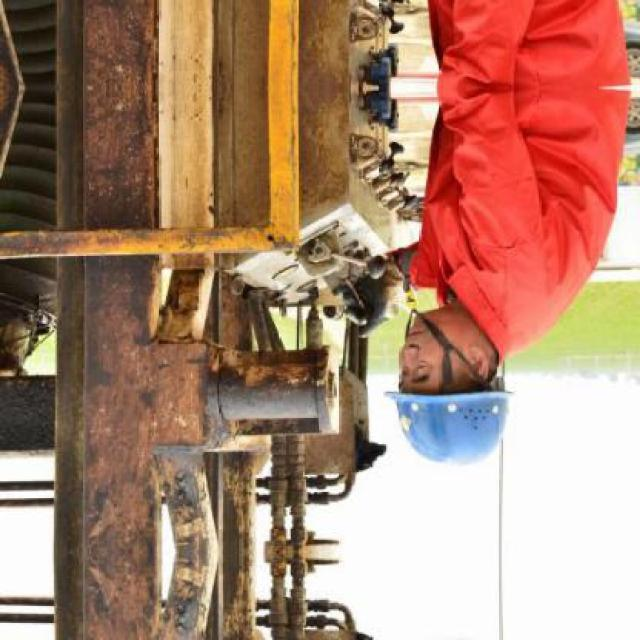safetyhelmet: (383, 364, 512, 464)
